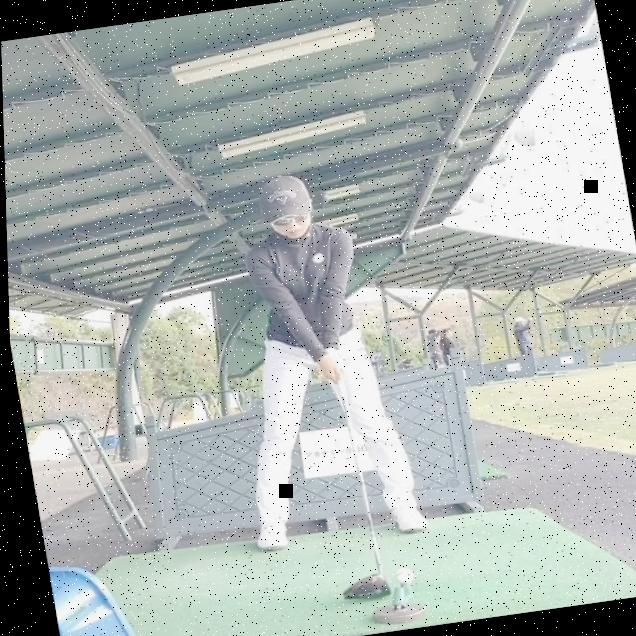ClubHead: (336, 572, 388, 602)
GolfBall: (391, 567, 411, 584)
